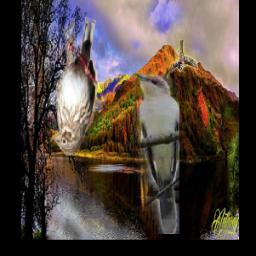Cuckoo: (134, 74, 180, 234)
Sparrow: (52, 18, 98, 157), (168, 40, 199, 79)
